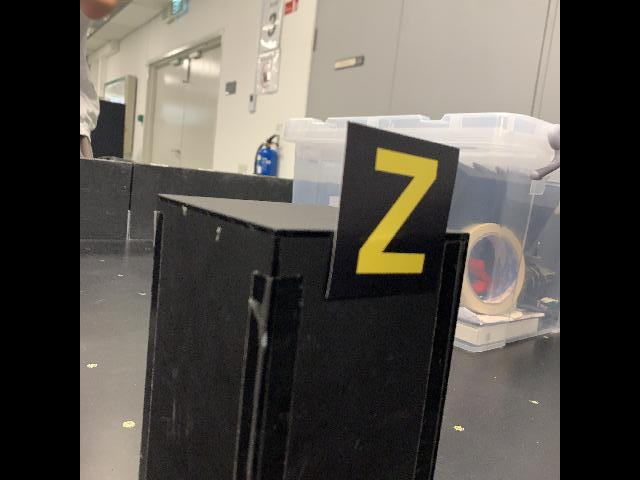z: (321, 118, 461, 302)
